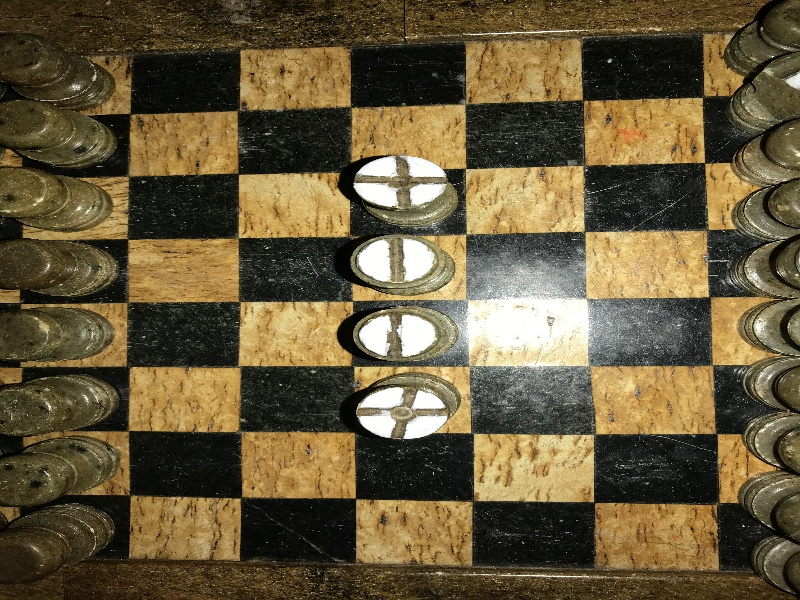WhiteBishop: (351, 155, 458, 228), (355, 373, 461, 439)
WhiteRook: (352, 235, 454, 294), (354, 307, 458, 361)
